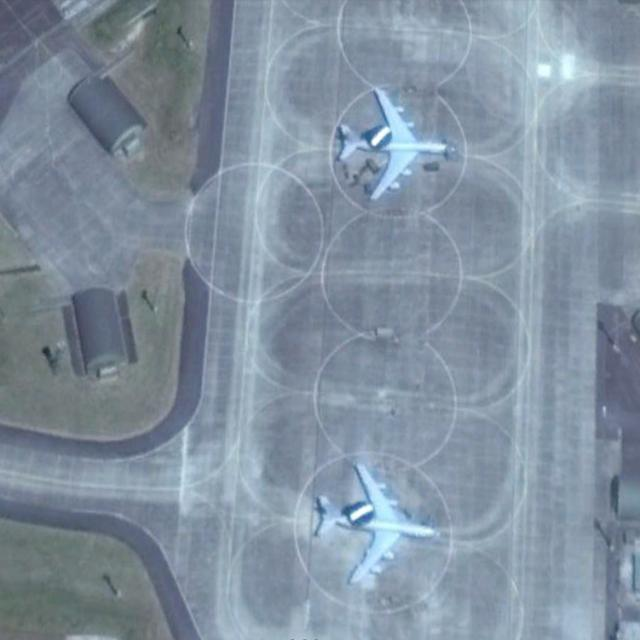fighter jet: (304, 455, 444, 597), (326, 77, 454, 206)
